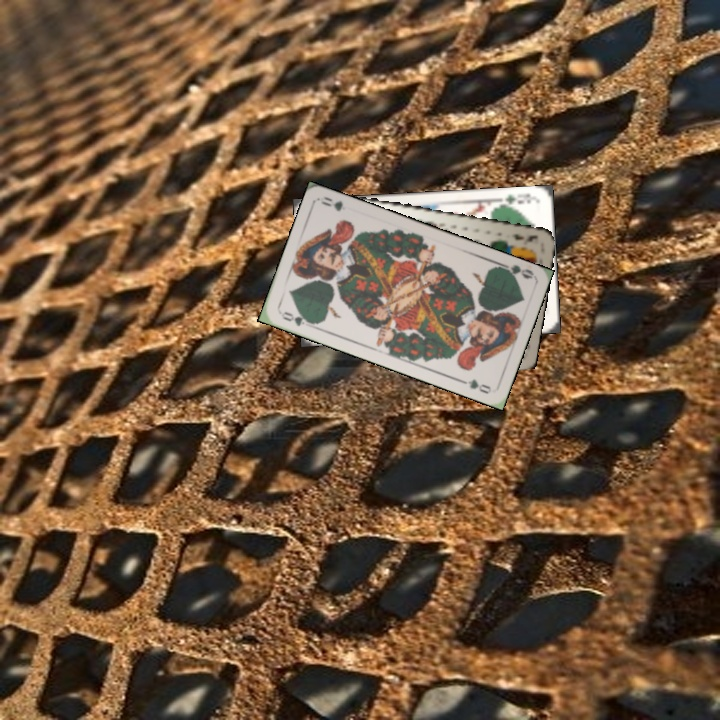EK: (508, 230, 540, 244)
GK: (497, 189, 537, 210)
GO: (494, 259, 535, 282), (276, 307, 316, 329)
